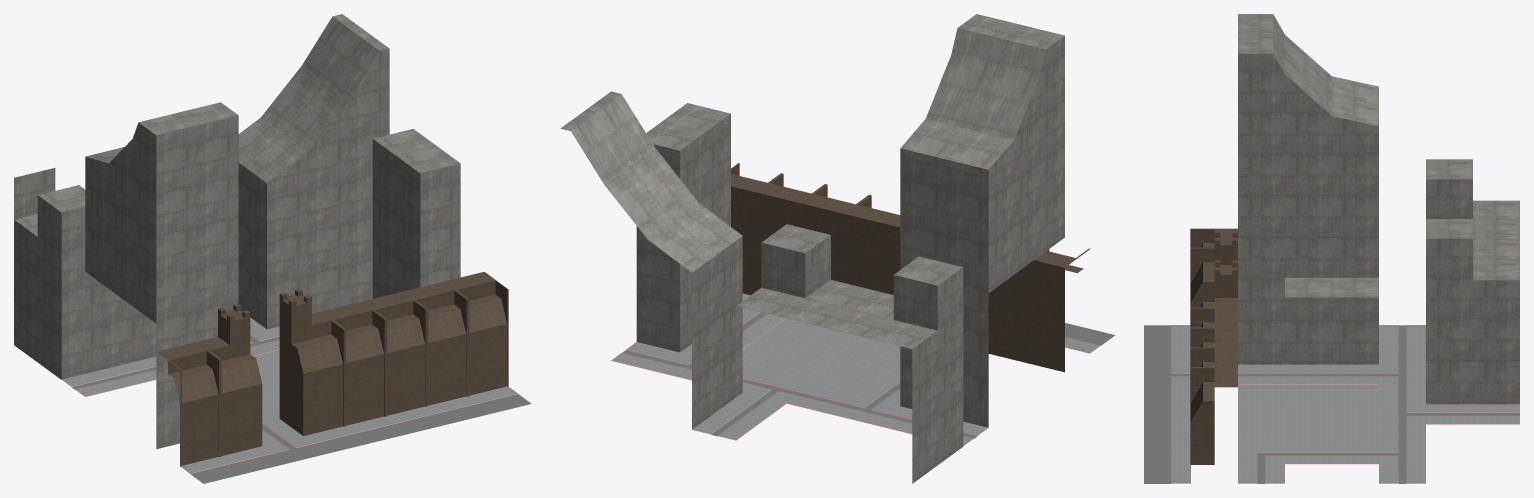
The model's file is Section8.gltf.
3 views of the same model, side by side, from view 1: azimuth 30°, elevation 25°; view 2: azimuth 150°, elevation 25°; view 3: azimuth 270°, elevation 25° (orthographic). The views are drawn at different scales.
Parts seen in each view (by area): view 1: Section8; view 2: Section8; view 3: Section8.
Boxes of the visible parts, x1,y1,x2,y2 form: Section8: (14, 14, 531, 483); Section8: (560, 14, 1115, 483); Section8: (1144, 14, 1519, 483).
Size of what is drawn, in the model's own units: 128 by 117 by 128.
6 materials, 4 textured.
